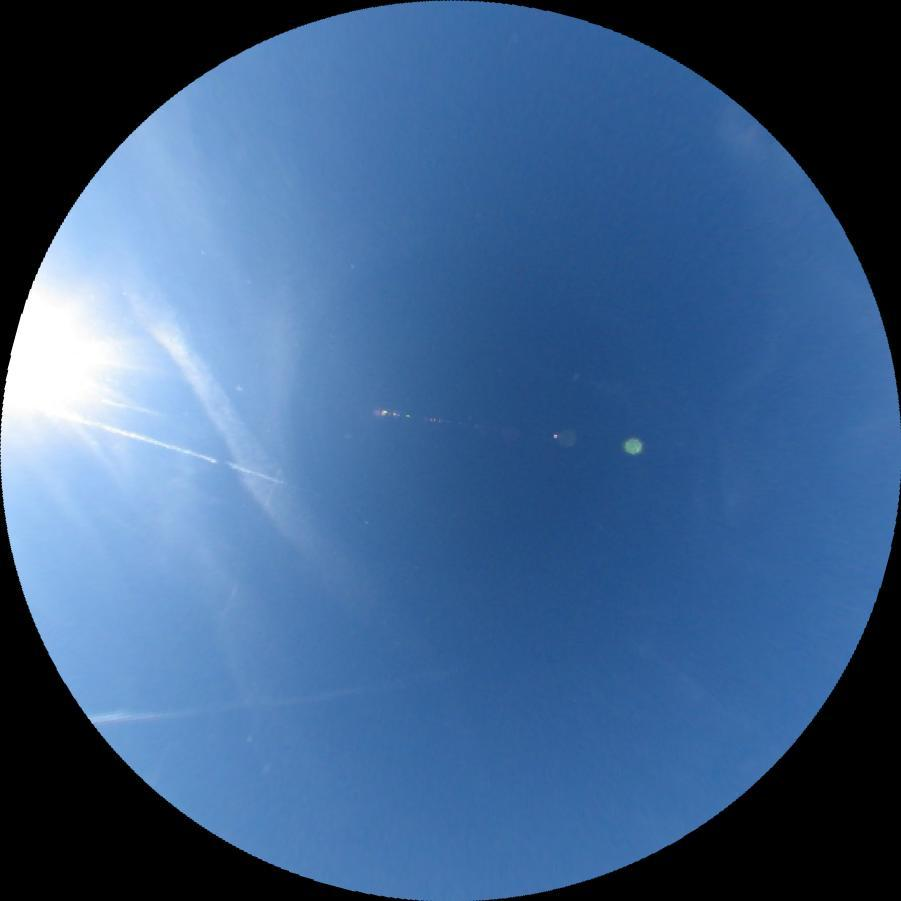contrail old: (88, 662, 466, 733)
contrail veryold: (112, 264, 340, 576)
parasite: (43, 404, 284, 487), (81, 393, 159, 418)
sun: (0, 282, 119, 436)
